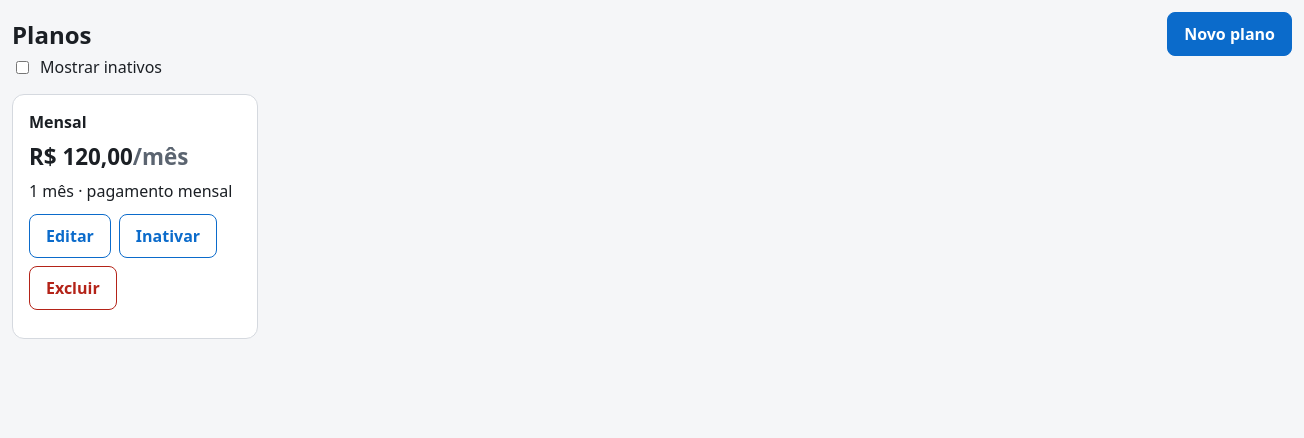
Test: planos (ADMIN) › excluir: só o ADMIN; confirma, manda o DELETE e recarrega; com matrícula, mostra o motivo
The image size is (1304, 438).
Expected: the text "Mensal" is shown, top-left (29, 111), bottom-right (87, 133)
Click the button "Excluir" at (73, 288), box top-left (29, 266), bottom-right (117, 310)
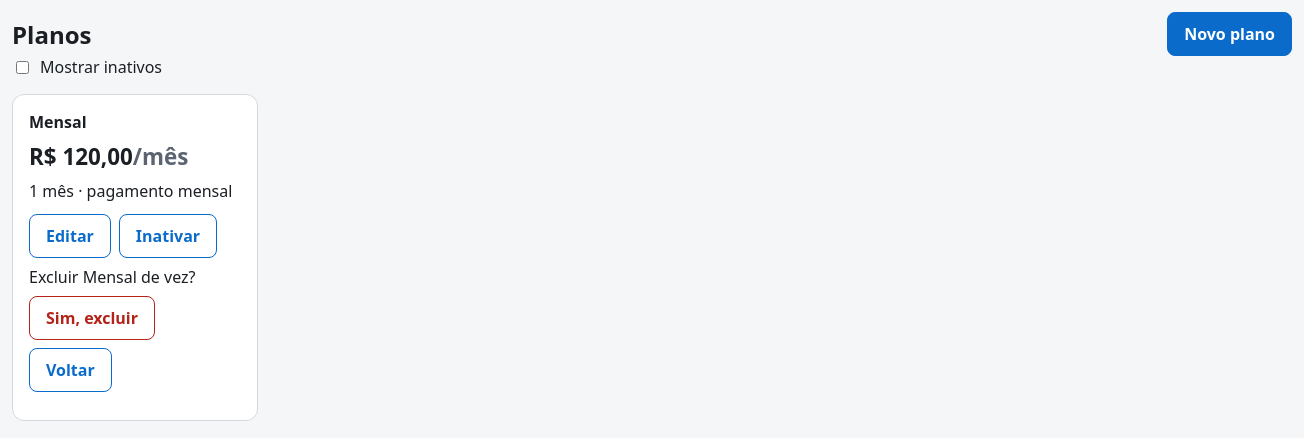
Click the button "Sim, excluir" at (92, 318), box top-left (29, 296), bottom-right (155, 340)
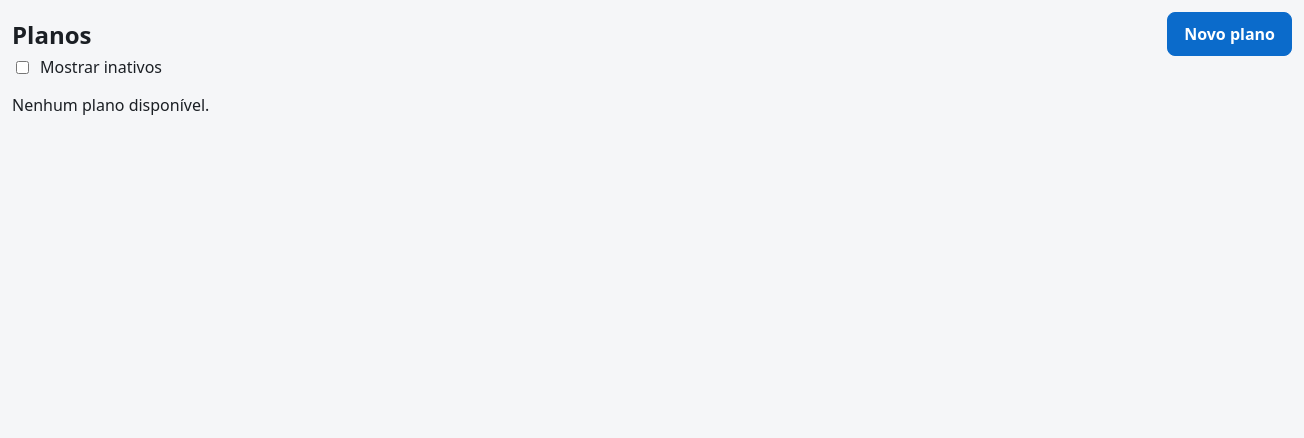
Expected: the text "Nenhum plano disponível." is shown, top-left (12, 94), bottom-right (209, 116)
